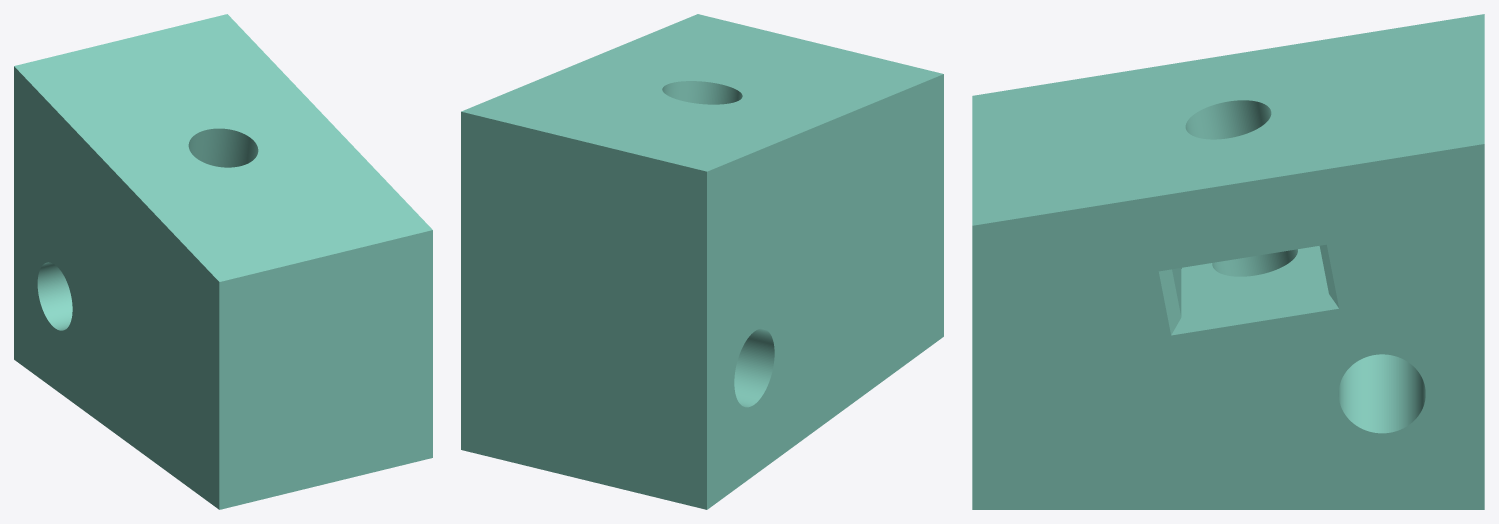
The model's file is nut-slot-v1.glb.
3 views of the same model, side by side, from view 1: azimuth 30°, elevation 25°; view 2: azimuth 150°, elevation 25°; view 3: azimuth 270°, elevation 25° (orthographic). The views are drawn at different scales.
Visible parts, largest first — view 1: top_block_left_140_side_slot; view 2: top_block_left_140_side_slot; view 3: top_block_left_140_side_slot.
Boxes of the visible parts, x1=… form: top_block_left_140_side_slot: x1=14, y1=14, x2=432, y2=509; top_block_left_140_side_slot: x1=461, y1=14, x2=943, y2=509; top_block_left_140_side_slot: x1=972, y1=14, x2=1484, y2=509.
Size of the model in its own units: 0.012 by 0.0158 by 0.02.
